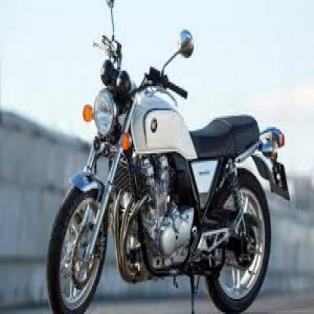Motocicleta: (40, 0, 292, 312)
